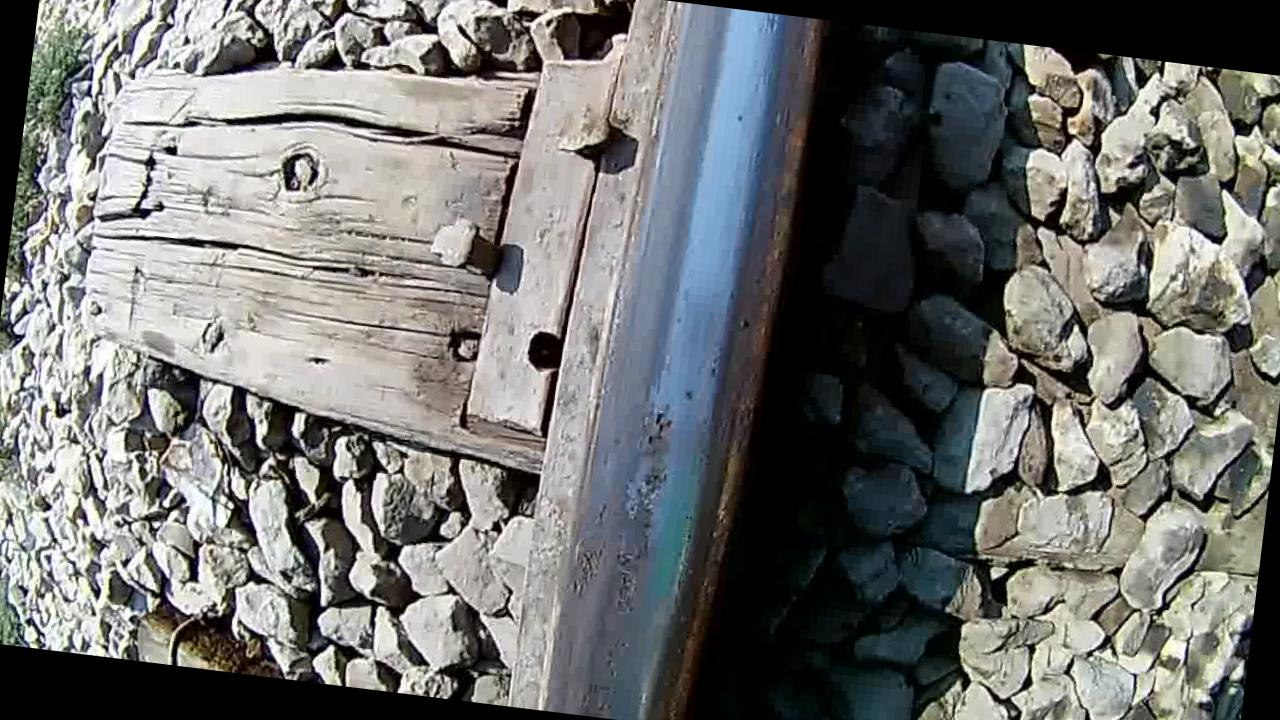crack: (545, 15, 822, 720)
